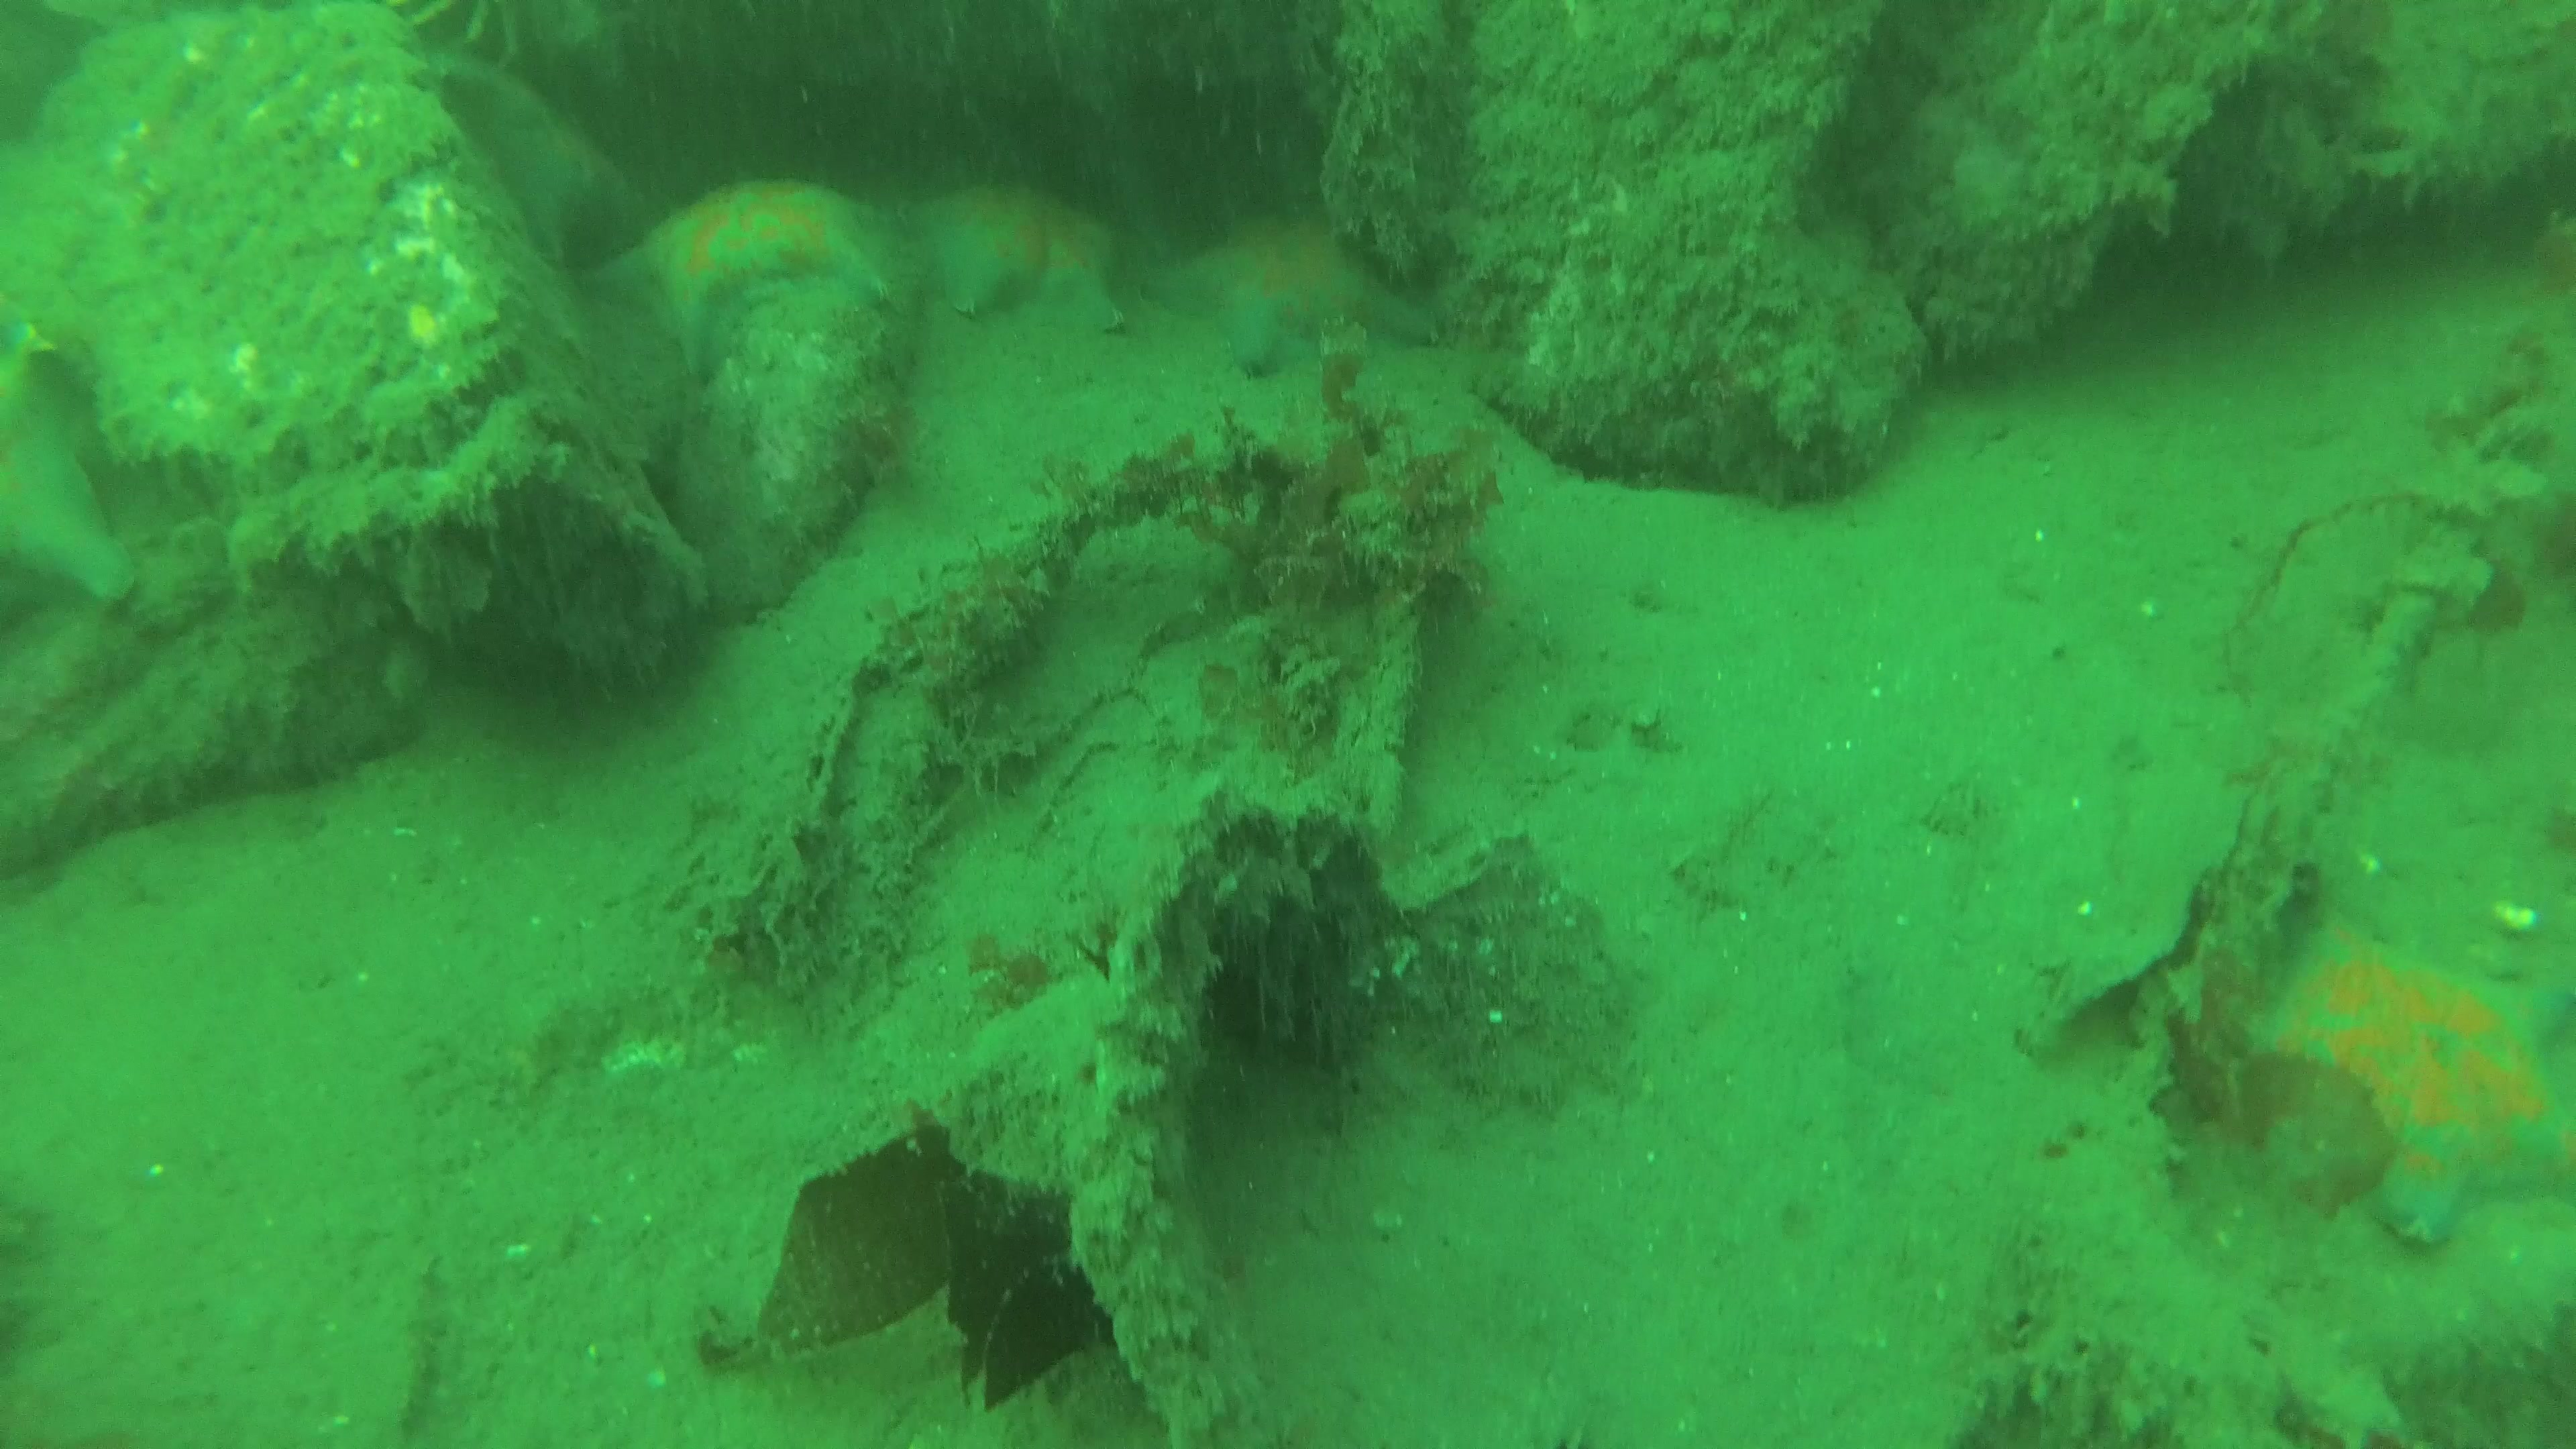starfish: (2245, 897, 2576, 1254), (589, 173, 888, 372), (1162, 216, 1431, 373), (0, 329, 138, 609), (897, 188, 1129, 336)
